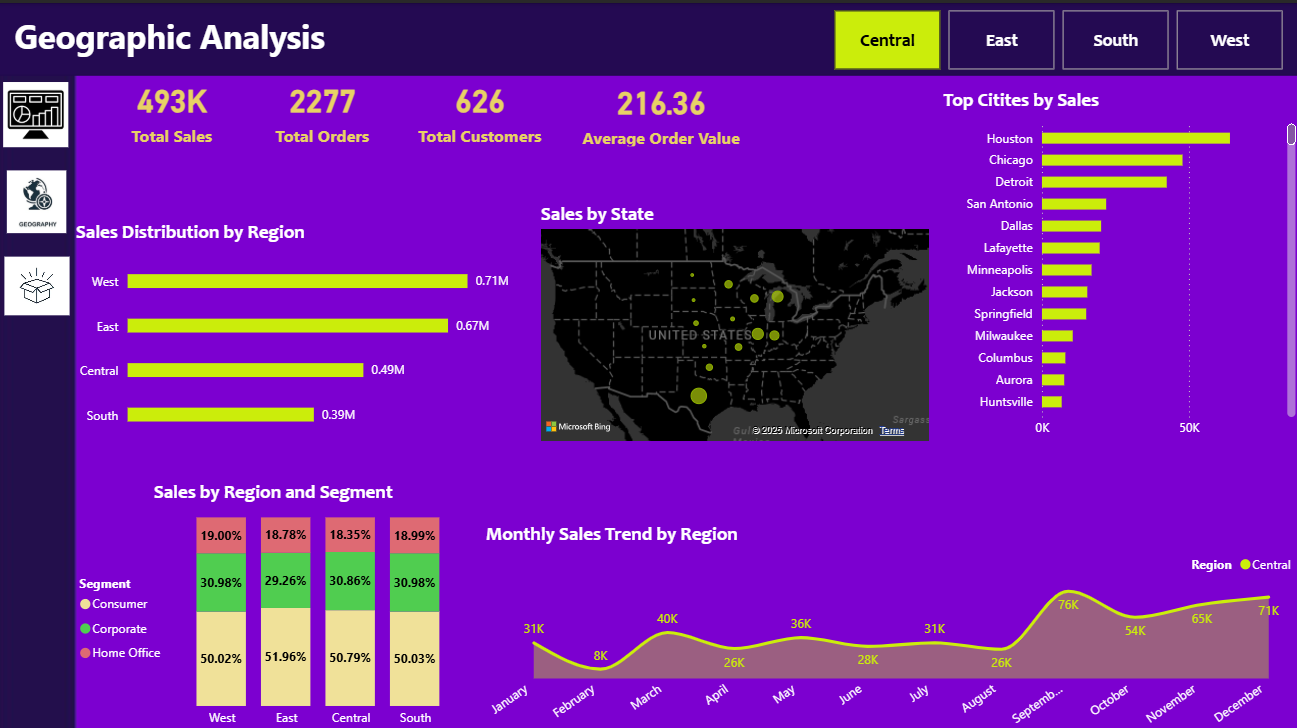

This screenshot's page, from the dashboard's own definition file:
{"tool":"powerbi","page":{"name":"Page 2","canvas":[1280,720],"ordinal":1},"visuals":[{"type":"image","box":[2.7,244.3,74.1,67.2],"z":0},{"type":"image","box":[2.7,159.2,72.7,71.4],"z":1000},{"type":"image","box":[1.4,71.4,74.1,76.8],"z":2000},{"type":"shape","box":[0,0,1280.3,71.4],"z":3000},{"type":"textbox","box":[12.3,6.1,342.3,57.7],"z":4000},{"type":"card","fields":{"Values":["Measures (2).Total Sales"]},"box":[111.7,61.4,120.2,88.3],"z":5000},{"type":"card","fields":{"Values":["Measures (2).Total Orders"]},"box":[240.5,62.6,158.3,85.9],"z":6000},{"type":"card","fields":{"Values":["Measures (2).Total Customers"]},"box":[407.4,61.4,133.7,88.3],"z":7000},{"type":"card","fields":{"Values":["Measures (2).Average Order Value"]},"box":[569.3,68.7,165.6,77.3],"z":8000},{"type":"map","title":" Sales by State","fields":{"Size":["Sum(sales_data.Sales)"],"Category":["sales_data.State"]},"box":[528.8,195.1,391.4,240.5],"z":9000},{"type":"clusteredBarChart","title":"Sales Distribution by Region","fields":{"Category":["sales_data.Region"],"Y":["Sum(sales_data.Sales)"]},"box":[72.4,213.5,435.6,222.1],"z":10000},{"type":"clusteredBarChart","title":"Top Citites by Sales","fields":{"Category":["sales_data.City"],"Y":["Sum(sales_data.Sales)"]},"box":[923.9,83.4,355.8,352.1],"z":11000},{"type":"hundredPercentStackedColumnChart","title":" Sales by Region and Segment","fields":{"Category":["sales_data.Region"],"Y":["Sum(sales_data.Sales)"],"Series":["sales_data.Segment"]},"box":[76.1,468.7,390.2,251.5],"z":12000},{"type":"lineChart","title":"Monthly Sales Trend by Region","fields":{"Category":["sales_data.Order Date.Variation.Date Hierarchy.Month"],"Series":["sales_data.Region"],"Y":["Sum(sales_data.Sales)"]},"box":[474.8,509.2,804.9,211],"z":13000},{"type":"advancedSlicerVisual","fields":{"Values":["sales_data.Region"]},"box":[817.2,2.5,452.8,68.7],"z":14000}]}

Visuals, with their boxes in screenshot pixels (x1, y1, x2, y2), scaled from the page's 1280x720 canvas onto the 1297x728 screenshot:
image: box(3, 247, 78, 315)
image: box(3, 161, 76, 233)
image: box(1, 72, 77, 150)
shape: box(0, 0, 1296, 72)
textbox: box(12, 6, 359, 65)
card - Measures (2).Total Sales: box(113, 62, 235, 151)
card - Measures (2).Total Orders: box(244, 63, 404, 150)
card - Measures (2).Total Customers: box(413, 62, 548, 151)
card - Measures (2).Average Order Value: box(577, 69, 745, 148)
" Sales by State" map: box(536, 197, 932, 440)
"Sales Distribution by Region" clusteredBarChart: box(73, 216, 515, 440)
"Top Citites by Sales" clusteredBarChart: box(936, 84, 1296, 440)
" Sales by Region and Segment" hundredPercentStackedColumnChart: box(77, 474, 472, 727)
"Monthly Sales Trend by Region" lineChart: box(481, 515, 1296, 727)
advancedSlicerVisual - sales_data.Region: box(828, 3, 1287, 72)
